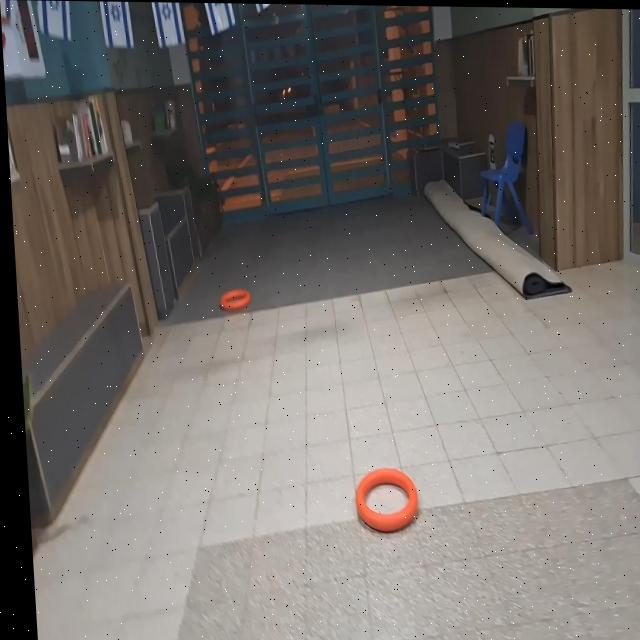note: (349, 467, 413, 534), (215, 288, 248, 312)
